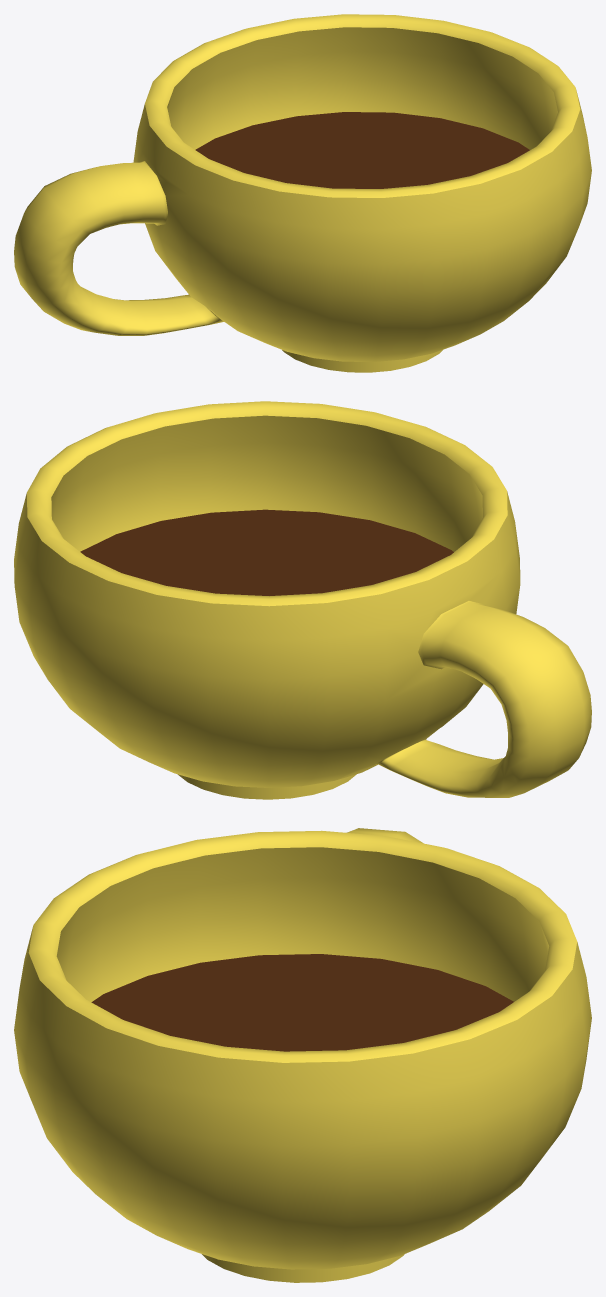
Rendered from Cup.fbx.
3 views of the same model, one above another, from view 1: azimuth 30°, elevation 25°; view 2: azimuth 150°, elevation 25°; view 3: azimuth 270°, elevation 25° (orthographic). The views are drawn at different scales.
Parts seen in each view (by area): view 1: Cup; view 2: Cup; view 3: Cup.
Part boxes in pixels (box(x1,y1,x2,y2)): Cup: box(14, 14, 591, 372); Cup: box(14, 401, 591, 799); Cup: box(14, 828, 591, 1282).
Size of the model in its own units: 0.1816 by 0.0792 by 0.1415.
